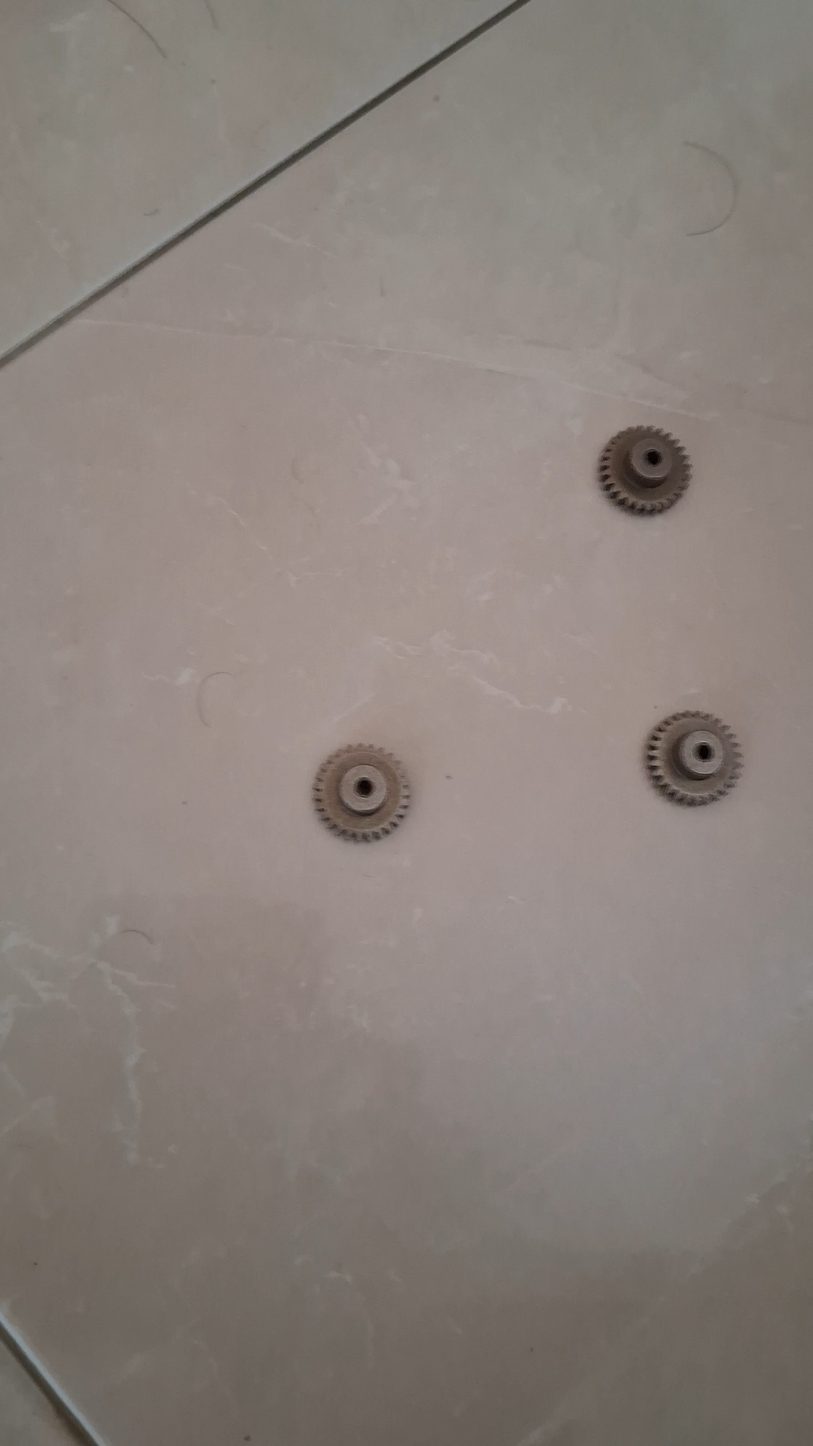spur gear: (313, 745, 410, 841), (645, 713, 741, 805), (598, 427, 690, 513)
